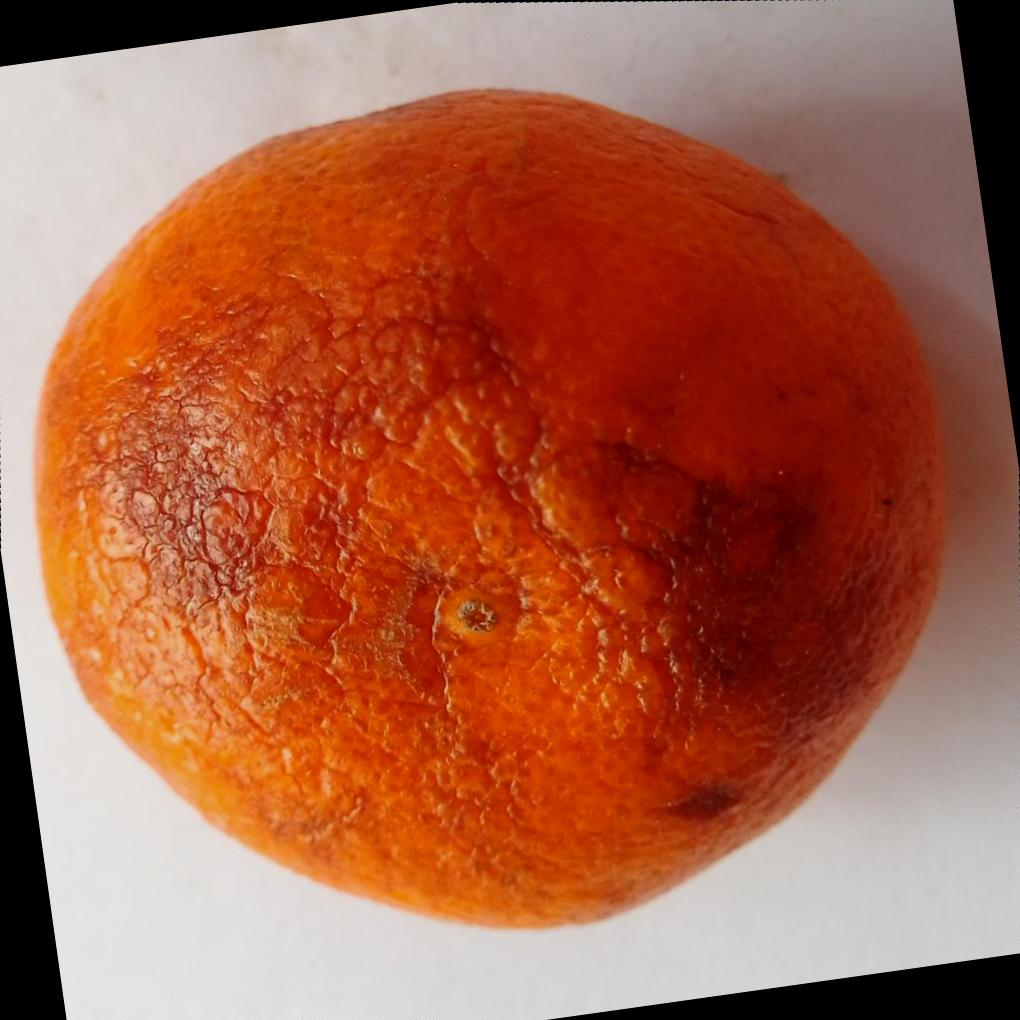FreshOrange: (30, 88, 950, 938)
